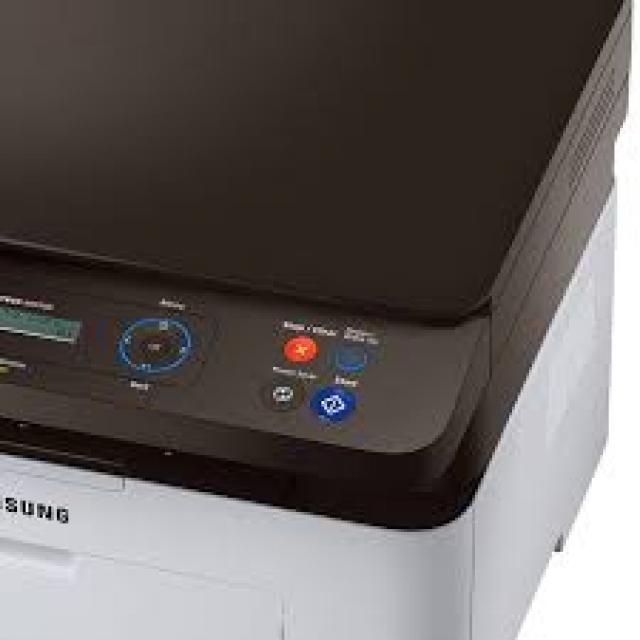printer: (5, 1, 637, 628)
